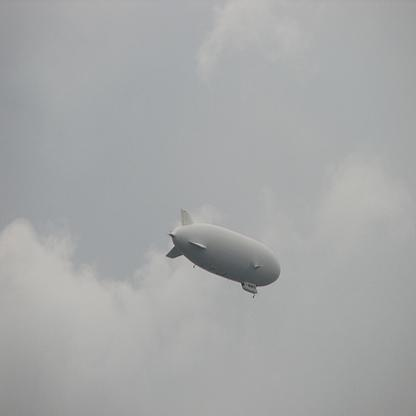Airship: (155, 205, 287, 308)
